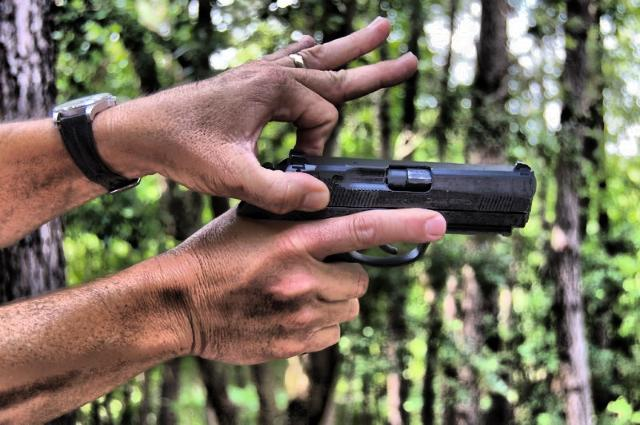pistol: (217, 148, 541, 272)
